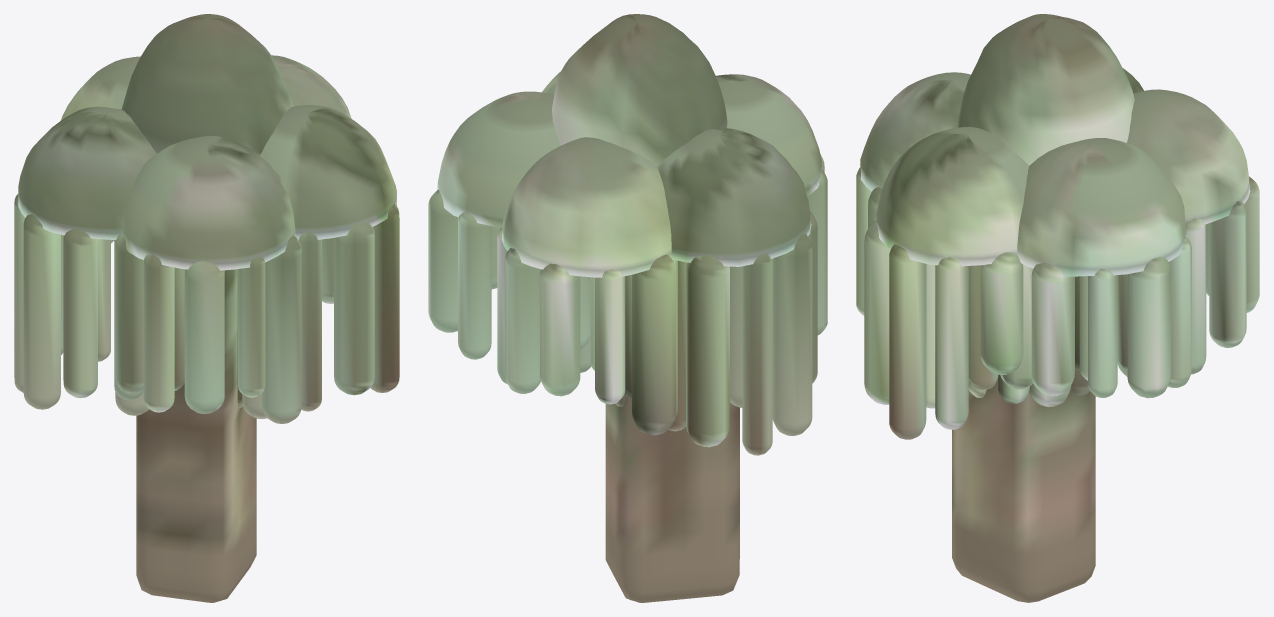
The model's file is willow-0.glb.
3 views of the same model, side by side, from view 1: azimuth 30°, elevation 25°; view 2: azimuth 150°, elevation 25°; view 3: azimuth 270°, elevation 25° (orthographic). The views are drawn at different scales.
Parts seen in each view (by area): view 1: willow-0; view 2: willow-0; view 3: willow-0.
Boxes of the visible parts, bbox=[...] form: willow-0: bbox=[14, 14, 399, 602]; willow-0: bbox=[428, 14, 827, 602]; willow-0: bbox=[856, 14, 1259, 602].
Bounding box in the file's own units: 1.88 × 2.94 × 1.87.
